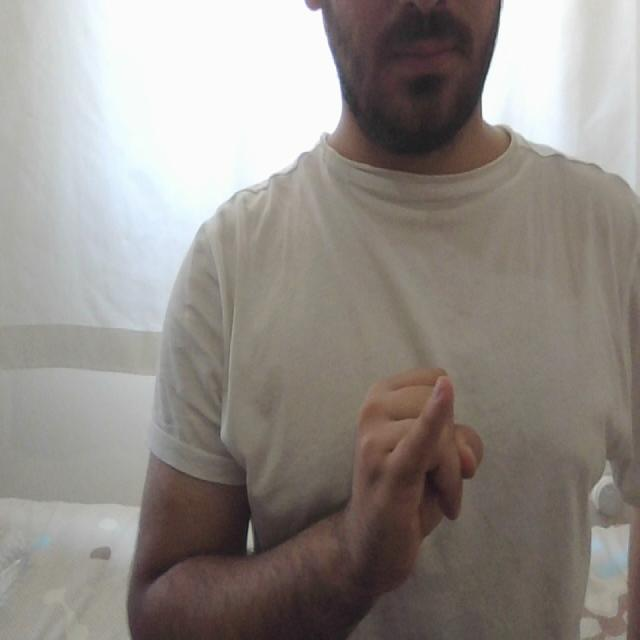kotu: (342, 358, 488, 550)
